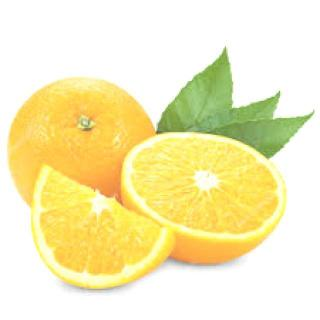orange: (103, 124, 289, 278), (0, 54, 162, 215), (27, 162, 177, 320)
